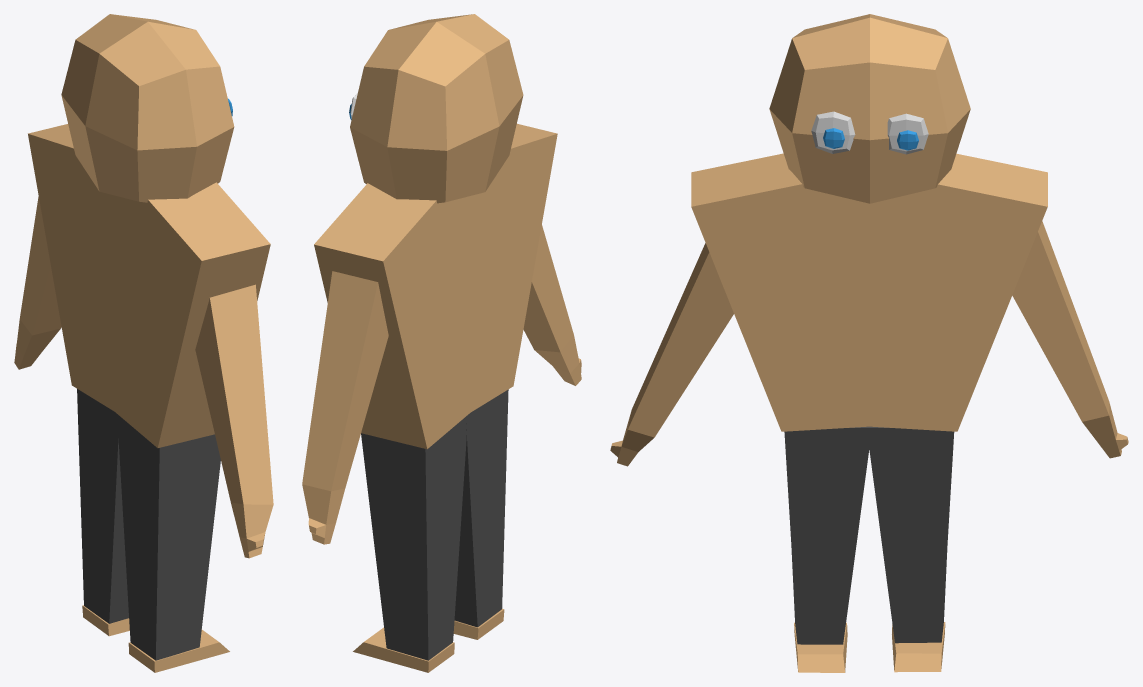
Rendered from marcelius.fbx.
3 views of the same model, side by side, from view 1: azimuth 30°, elevation 25°; view 2: azimuth 150°, elevation 25°; view 3: azimuth 270°, elevation 25° (orthographic). The views are drawn at different scales.
Parts seen in each view (by area): view 1: Cube; view 2: Cube; view 3: Cube.
Boxes of the visible parts, x1=… form: Cube: x1=14, y1=14, x2=273, y2=672; Cube: x1=302, y1=14, x2=581, y2=672; Cube: x1=610, y1=14, x2=1128, y2=672.
Size of the model in its own units: 1.69 by 7.79 by 5.79.
